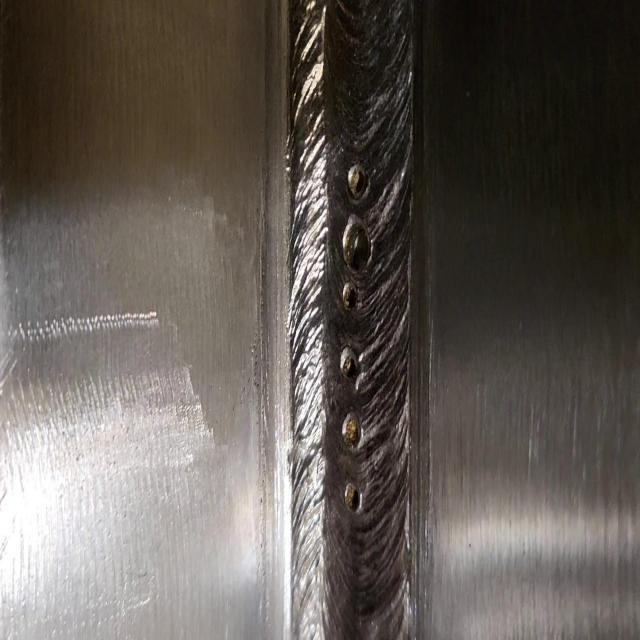Welding Line: (289, 2, 412, 640)
Workpiece: (2, 5, 640, 640)
porosity: (342, 164, 372, 514)
